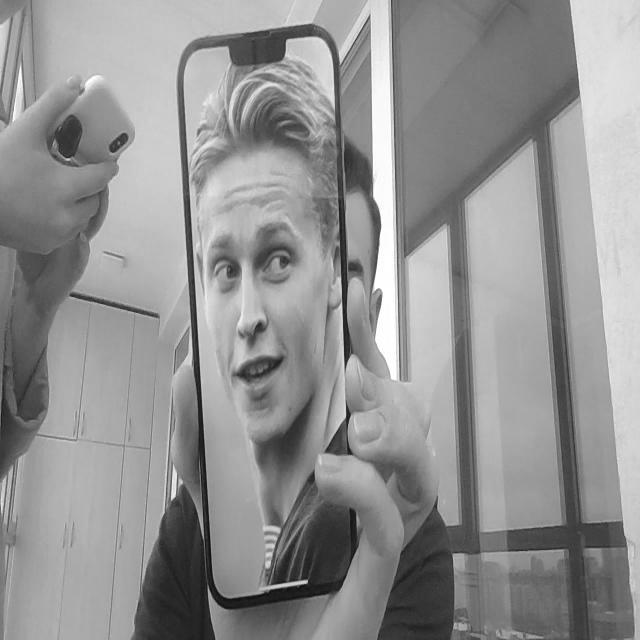fake: (174, 25, 358, 611)
